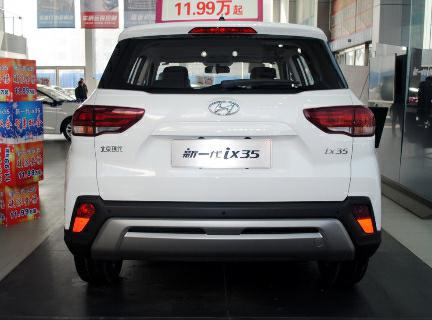现代-北京现代-ix35: (58, 17, 391, 291)
